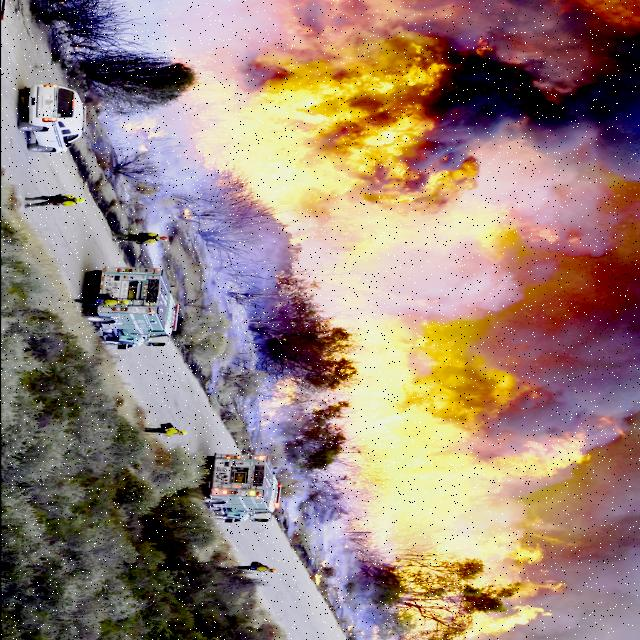api: (145, 23, 628, 638), (250, 378, 300, 436), (118, 119, 182, 155)
asap: (394, 1, 640, 193), (467, 260, 640, 467), (369, 237, 529, 330), (111, 1, 293, 77), (510, 547, 640, 640), (316, 513, 402, 640), (200, 233, 280, 311), (206, 325, 247, 398), (281, 466, 313, 540), (148, 210, 172, 276)
